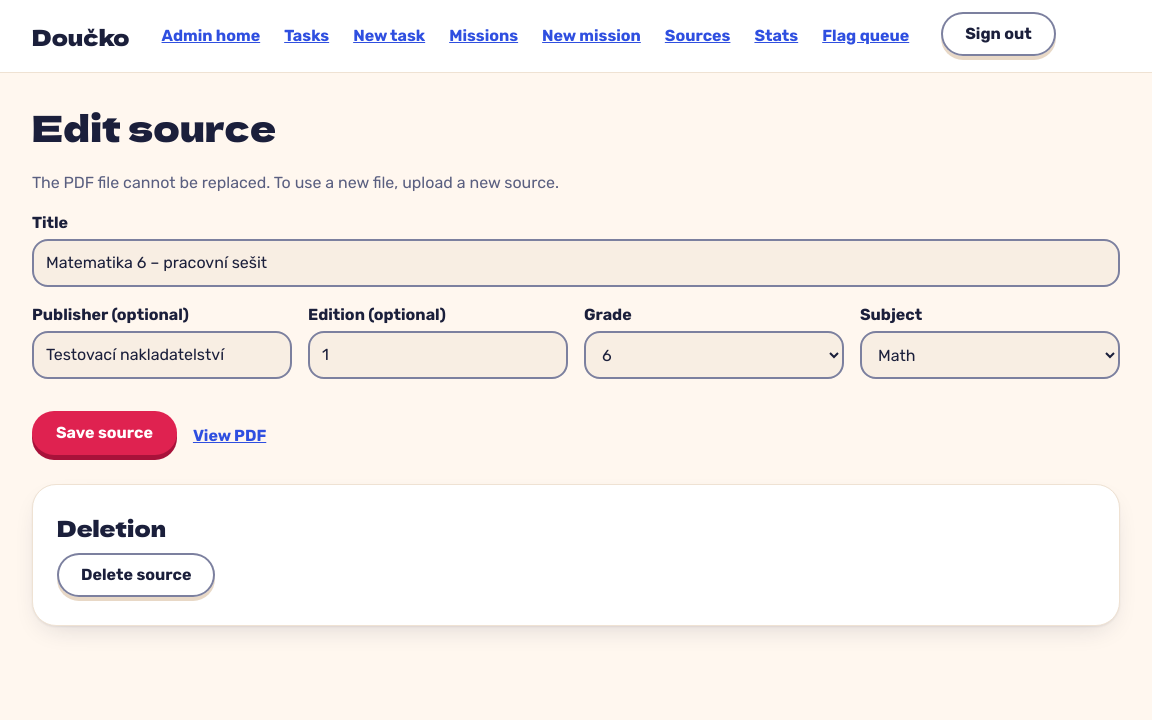
Test: source metadata edit (FR-55) › shows a refusal inline and keeps the stored source (Invalid source edit)
expect the heading "Edit source" is shown: met, box [32,100,276,152]
Clear the field labelled "Title" at x=576, y=263, box [32,239,1120,287]
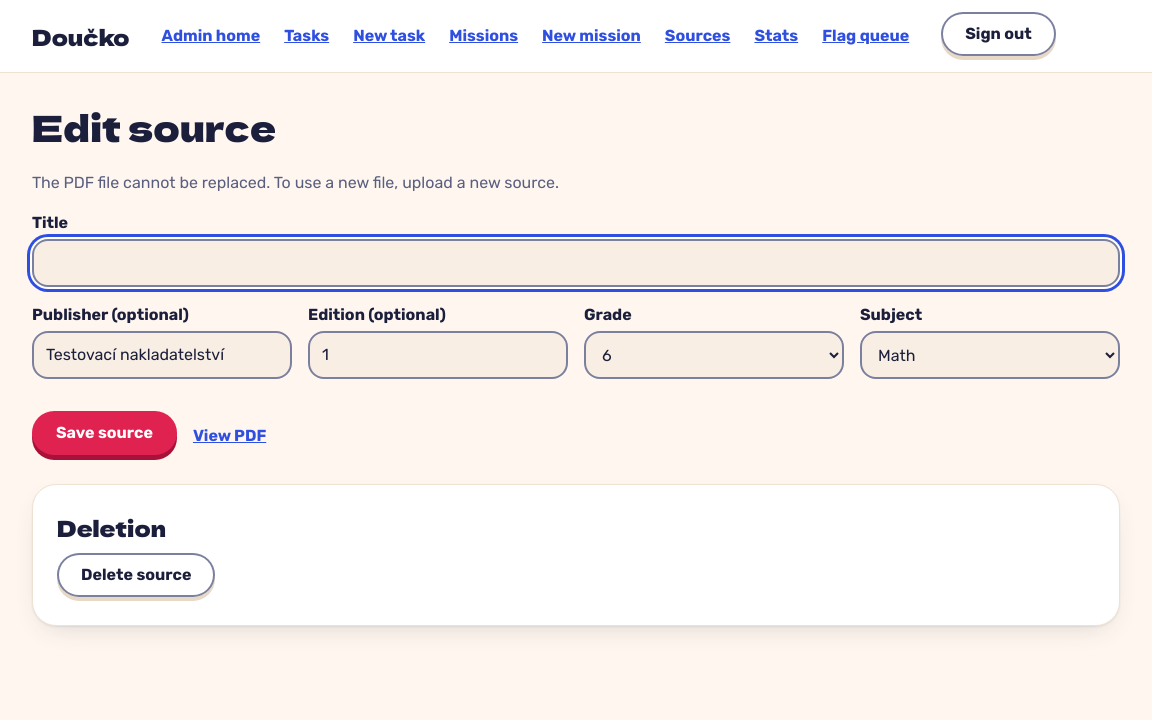
Click the button "Save source" at x=104, y=433, box [32,411,177,455]
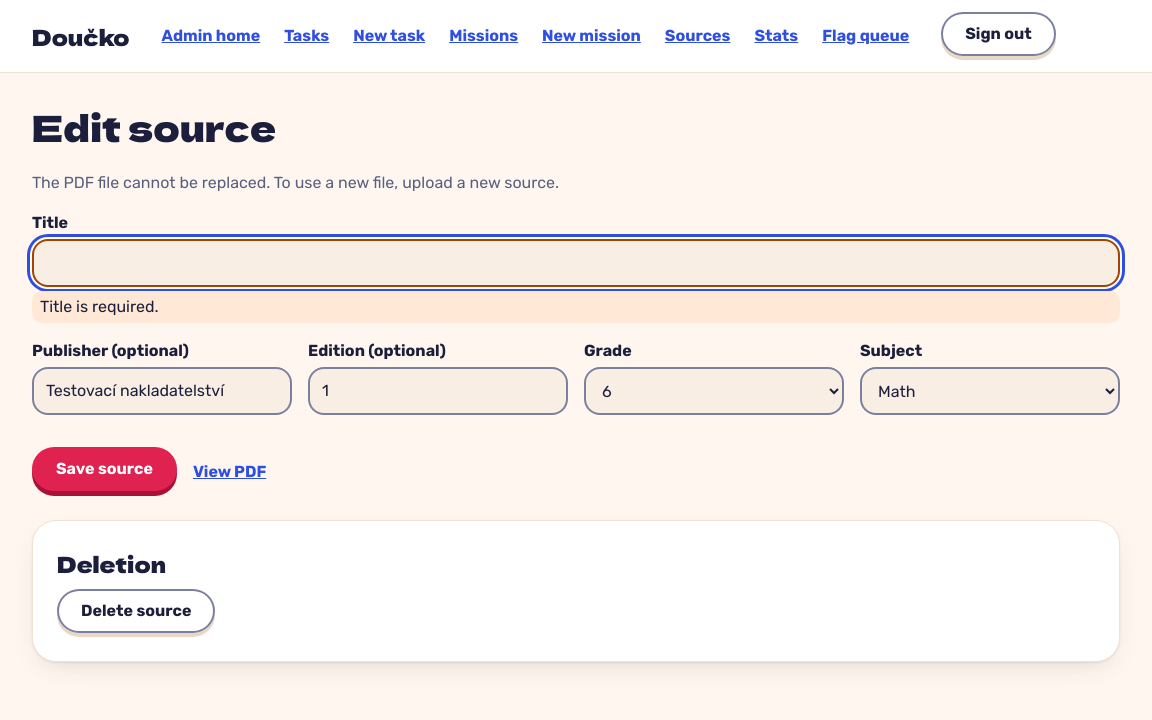
expect the text "Title is required." is shown: met, box [32,291,1120,323]
